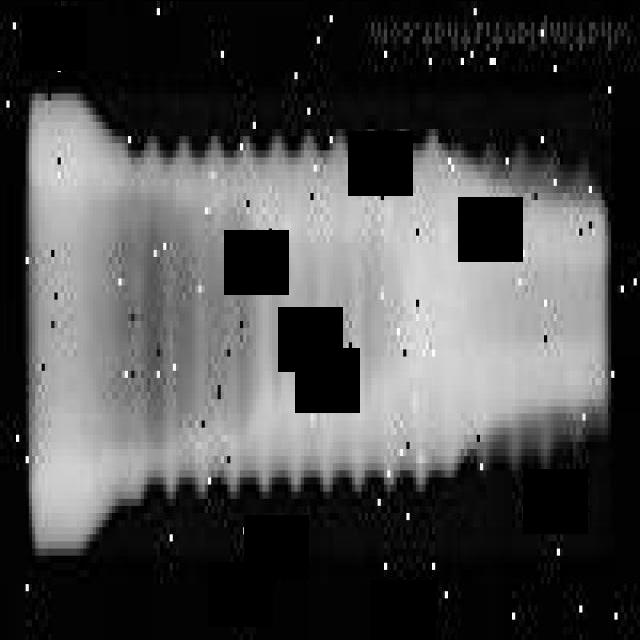Retained root: (28, 92, 612, 559)
